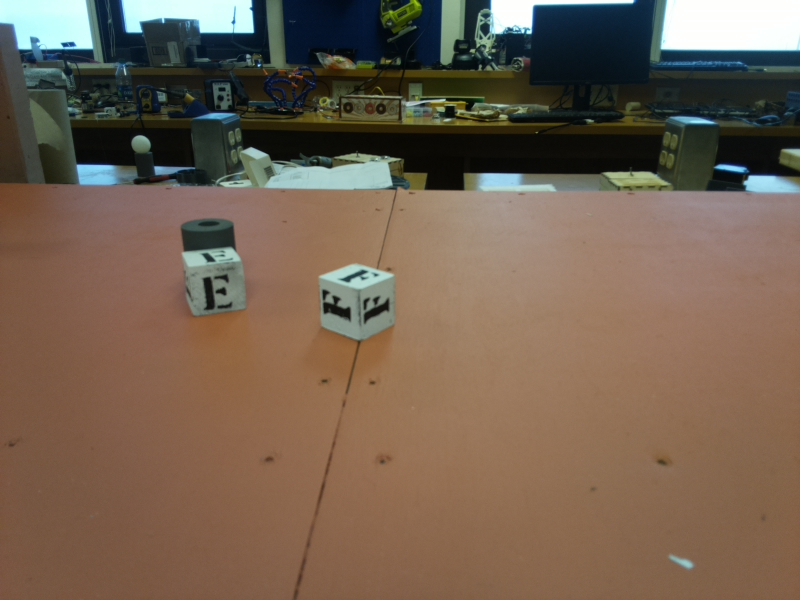blockE: (185, 242, 247, 310)
blockF: (313, 263, 396, 338)
